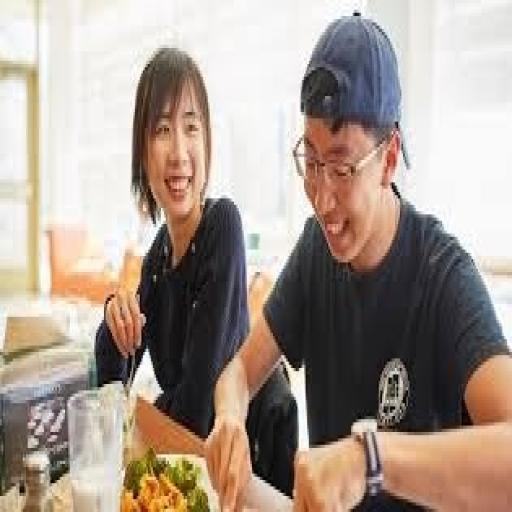eating: (204, 10, 510, 508)
